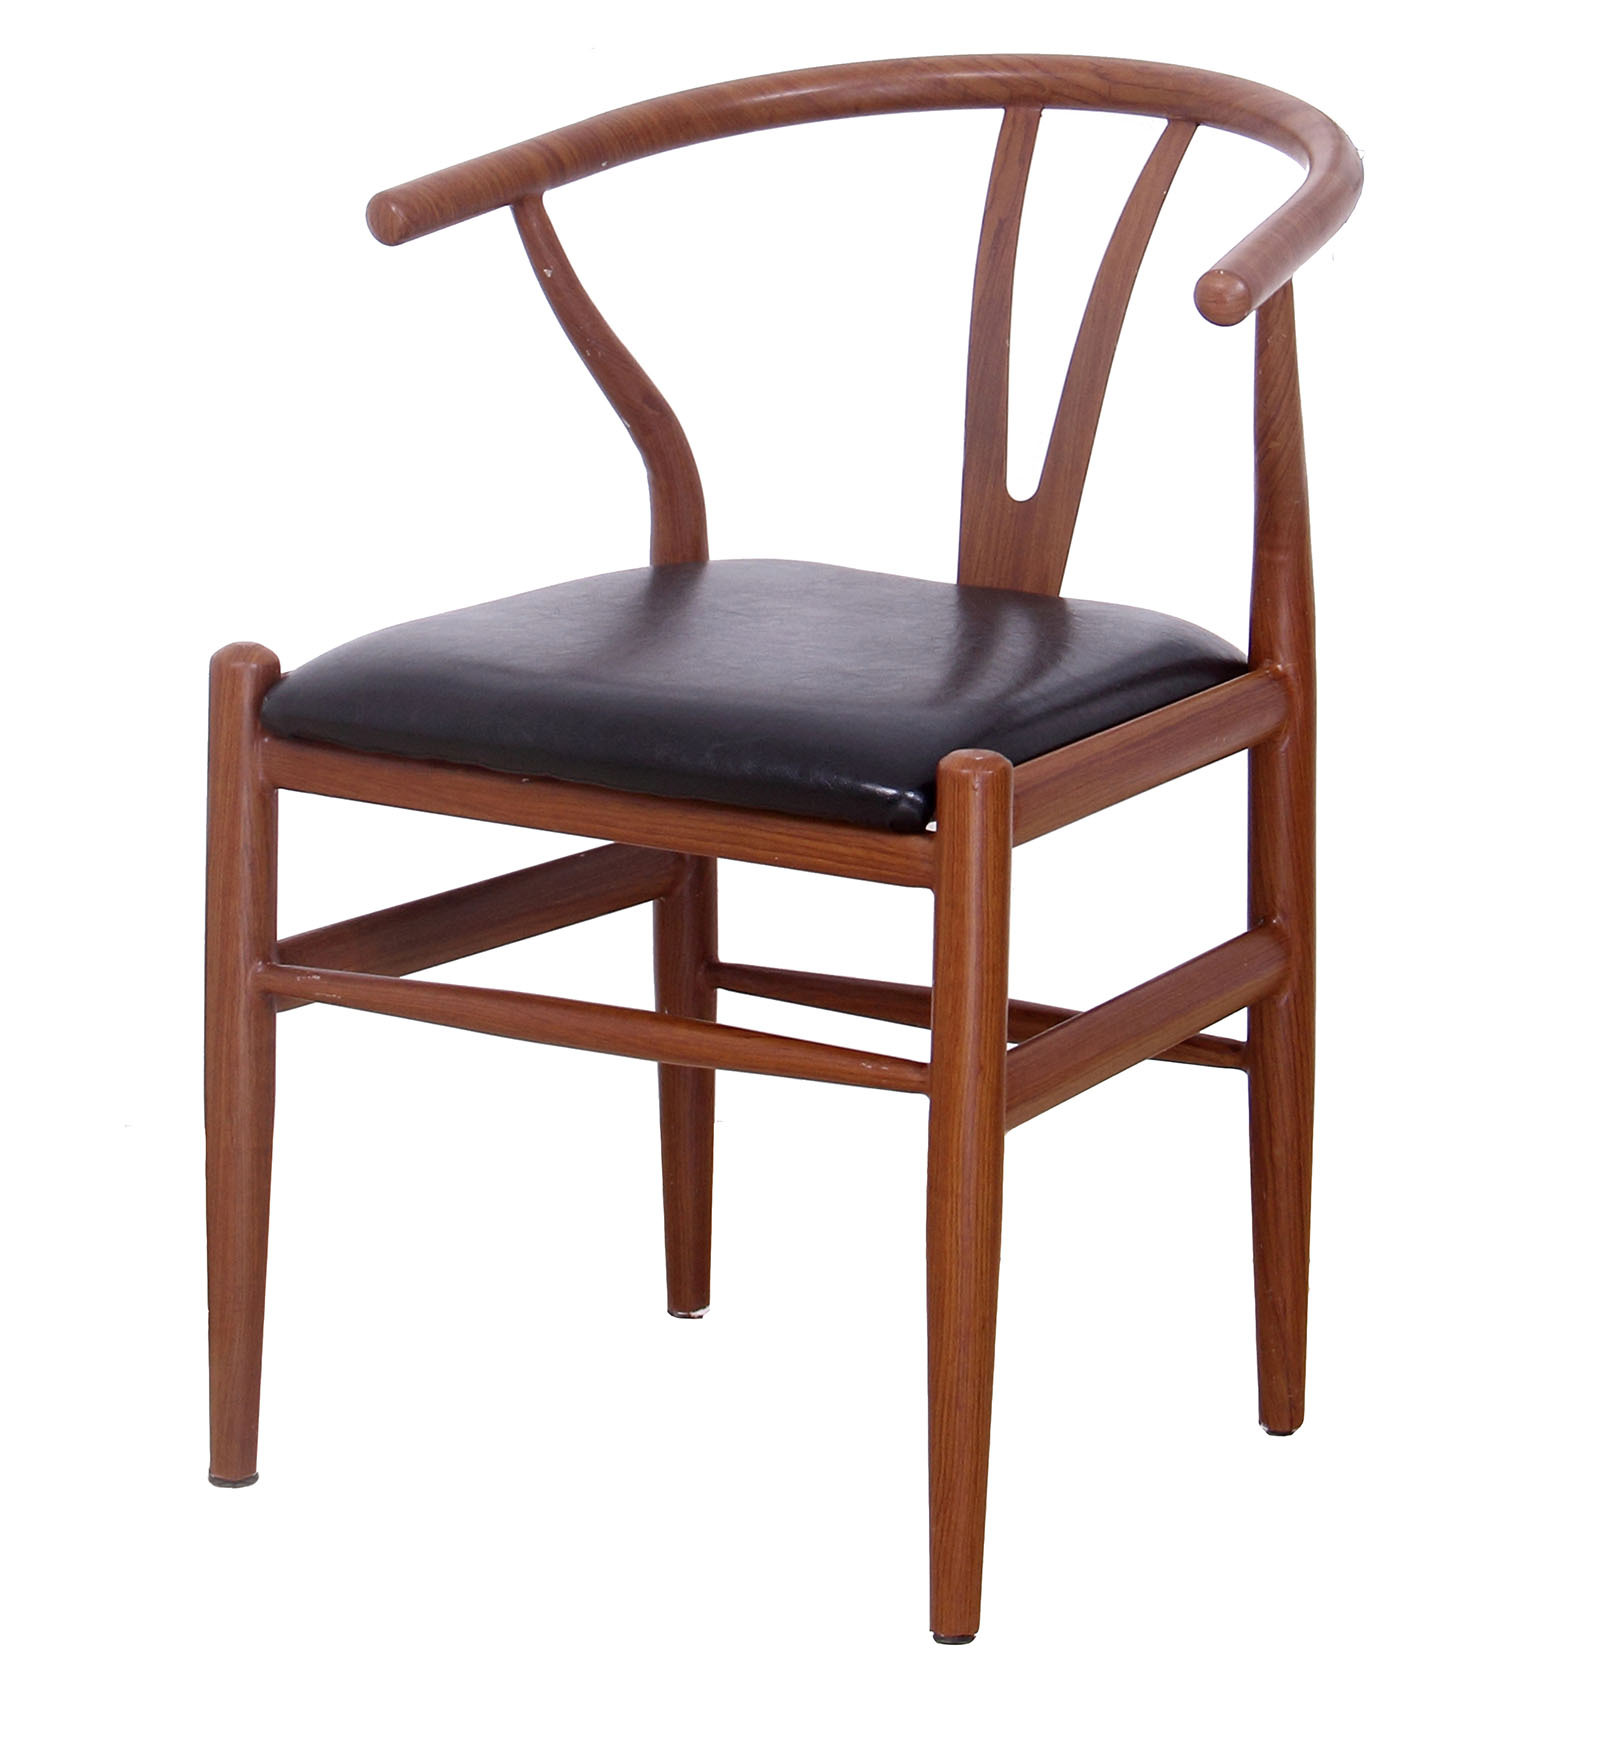Palo Metal Chair (Set of 2) in Walnut Finish by Bohemiana: (127, 15, 1434, 1702)
